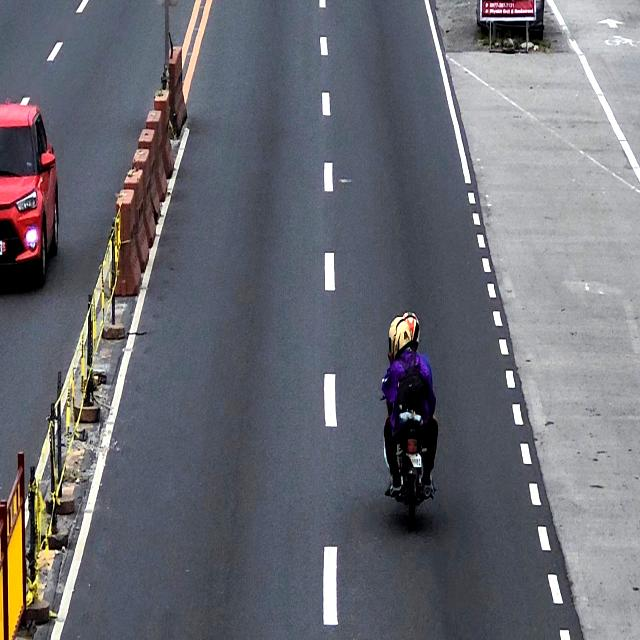Motorcycle: (382, 367, 437, 538)
